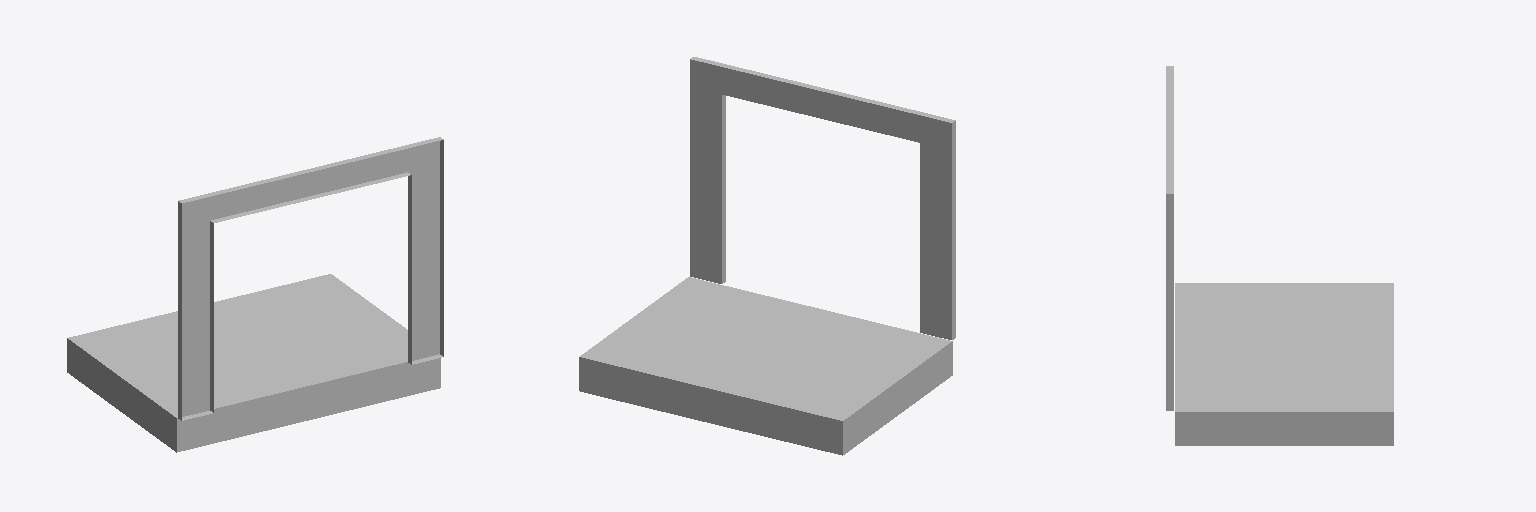
The model's file is housesp_077.obj.
3 views of the same model, side by side, from view 1: azimuth 30°, elevation 25°; view 2: azimuth 150°, elevation 25°; view 3: azimuth 270°, elevation 25° (orthographic).
Size of the model in its own units: 80 by 73 by 59.74.